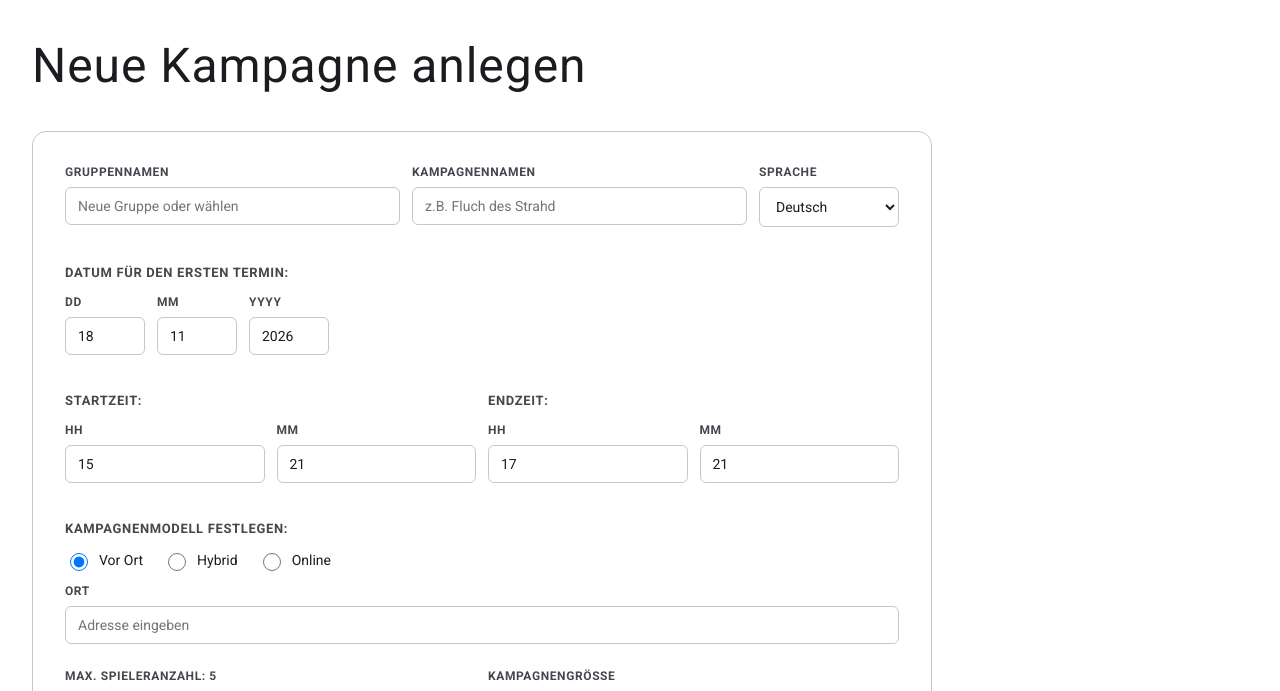
Test: NeueKampagne (Formular-Isolation) › zeigt einen lokalen Netzwerk-Fehler an, wenn der Request fehlschlägt
Type "Testkampagne" into the field with placeholder "z.B. Fluch des Strahd" at [580, 206], box [412,187,747,225]
(page scrolled)
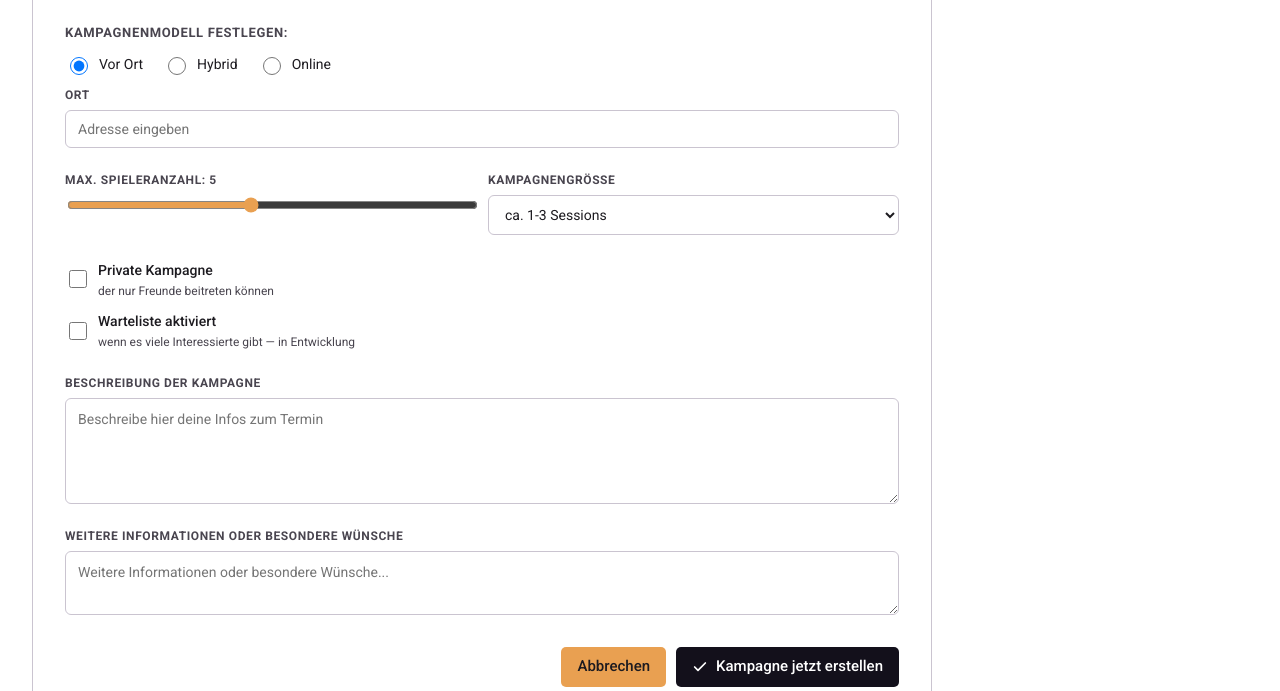
Click the button "Kampagne jetzt erstellen" at [788, 667], box [676,647,899,687]
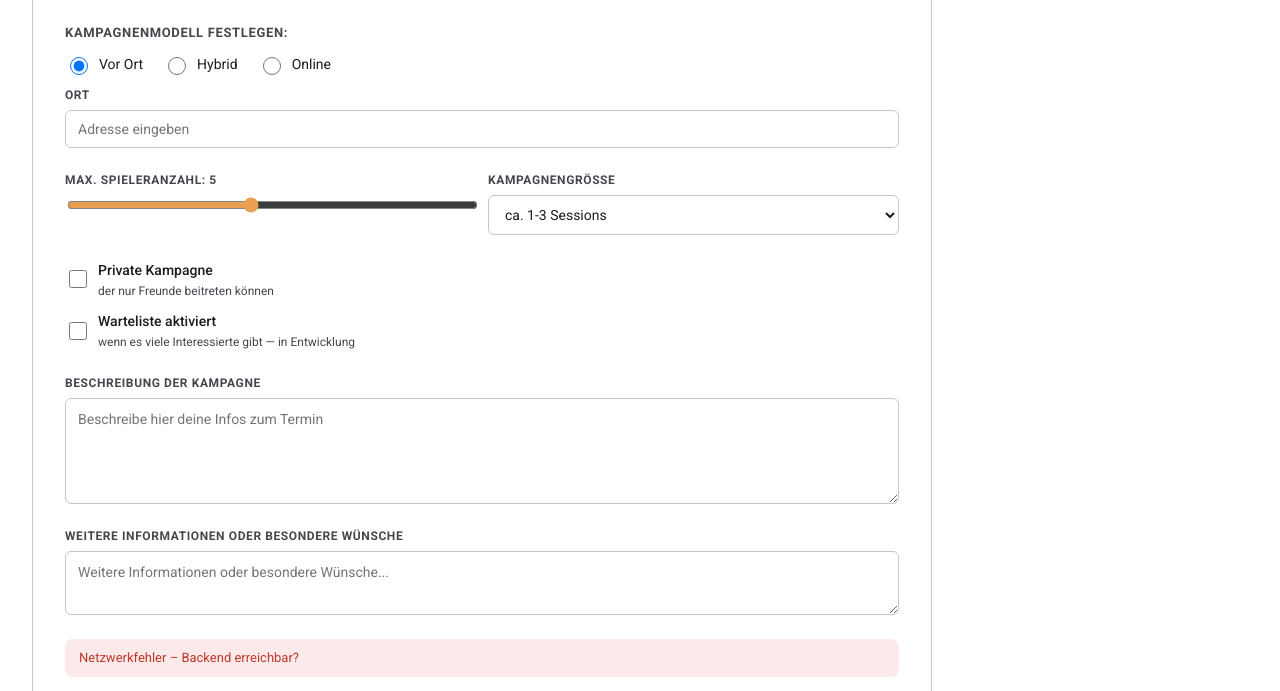
Expected: the text "Netzwerkfehler – Backend erreichbar?" is shown, [65,639,899,677]
